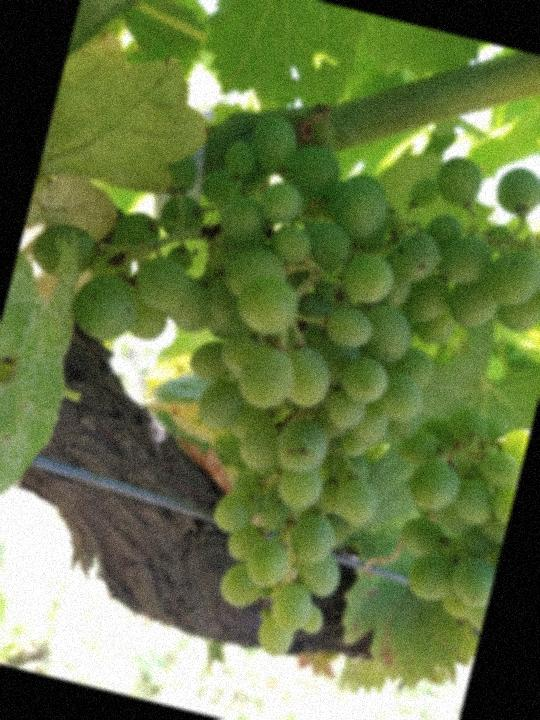grape: (0, 56, 540, 703)
